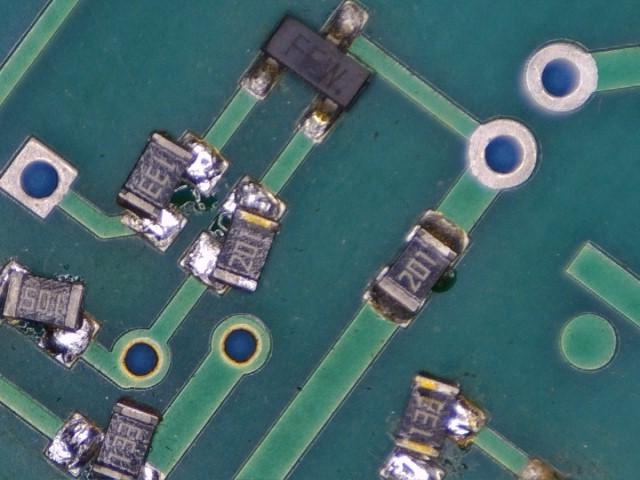pcb_defect: (117, 129, 231, 253), (177, 173, 289, 296), (376, 370, 491, 480), (0, 259, 102, 370), (41, 400, 168, 480)
